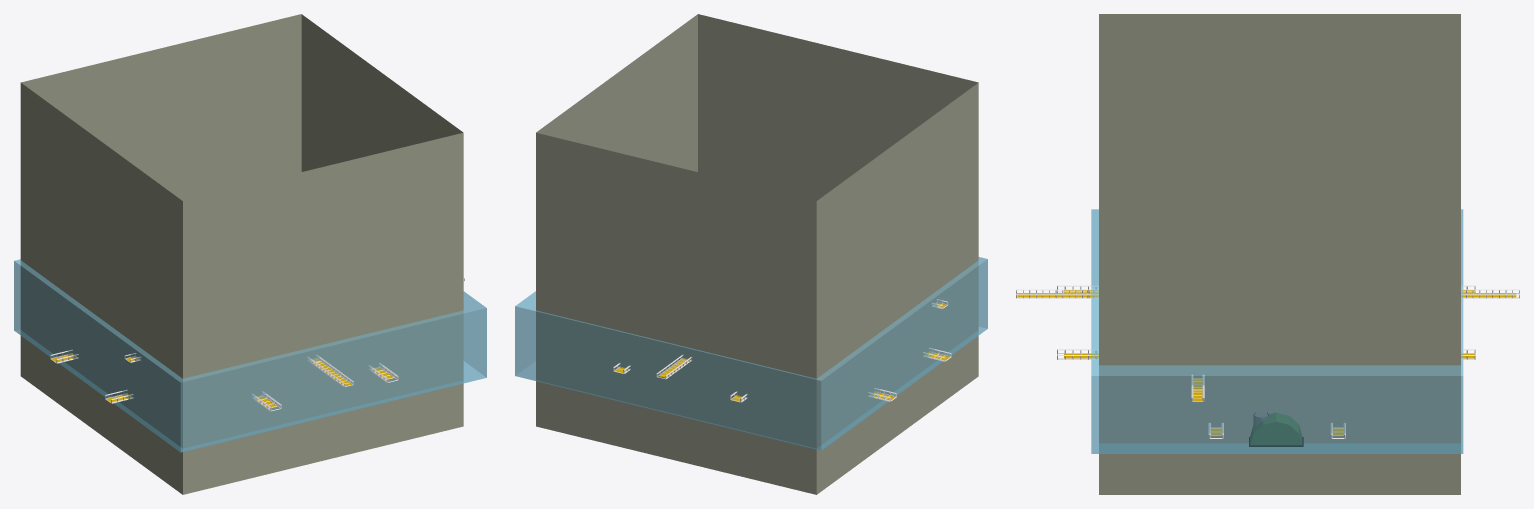
Rendered from Level 3 Ambientado.fbx.
3 views of the same model, side by side, from view 1: azimuth 30°, elevation 25°; view 2: azimuth 150°, elevation 25°; view 3: azimuth 270°, elevation 25° (orthographic). The views are drawn at different scales.
Parts seen in each view (by area): view 1: Borda_mapa, Agua; view 2: Borda_mapa, Agua; view 3: Borda_mapa, Agua, Cylinder.002, Ponte.006.
Part boxes in pixels (x1,y1,x2,y2): Borda_mapa: (20, 14, 463, 494); Agua: (14, 259, 486, 452); Borda_mapa: (536, 14, 978, 494); Agua: (515, 257, 987, 450); Borda_mapa: (1099, 14, 1460, 494); Agua: (1091, 209, 1463, 453); Cylinder.002: (1249, 412, 1303, 446); Ponte.006: (1016, 289, 1098, 298).
Bounding box in the file's own units: 15826 × 12838 × 17870.
